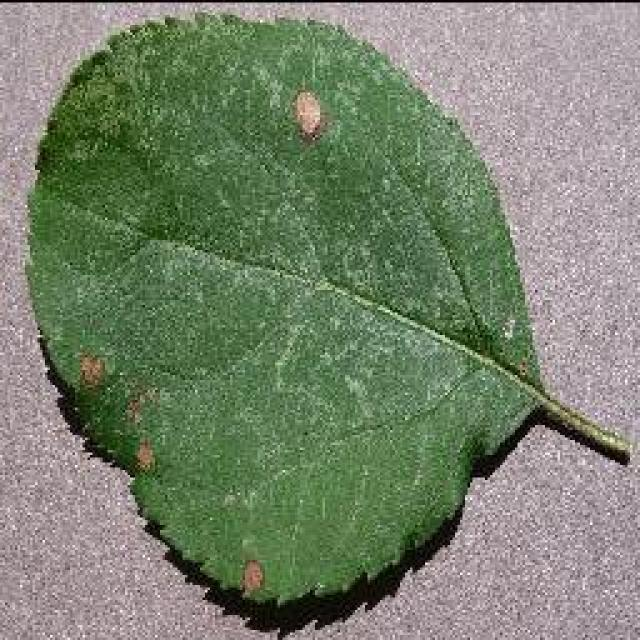apple black rot: (20, 8, 630, 622)
